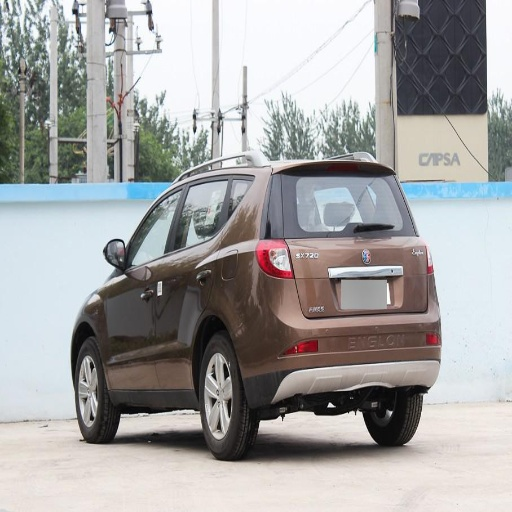back_bumper: (235, 276, 441, 404)
back_glass: (266, 166, 411, 232)
back_left_door: (152, 177, 220, 388)
tailgate: (306, 252, 414, 315)
trunk: (267, 236, 428, 331)
